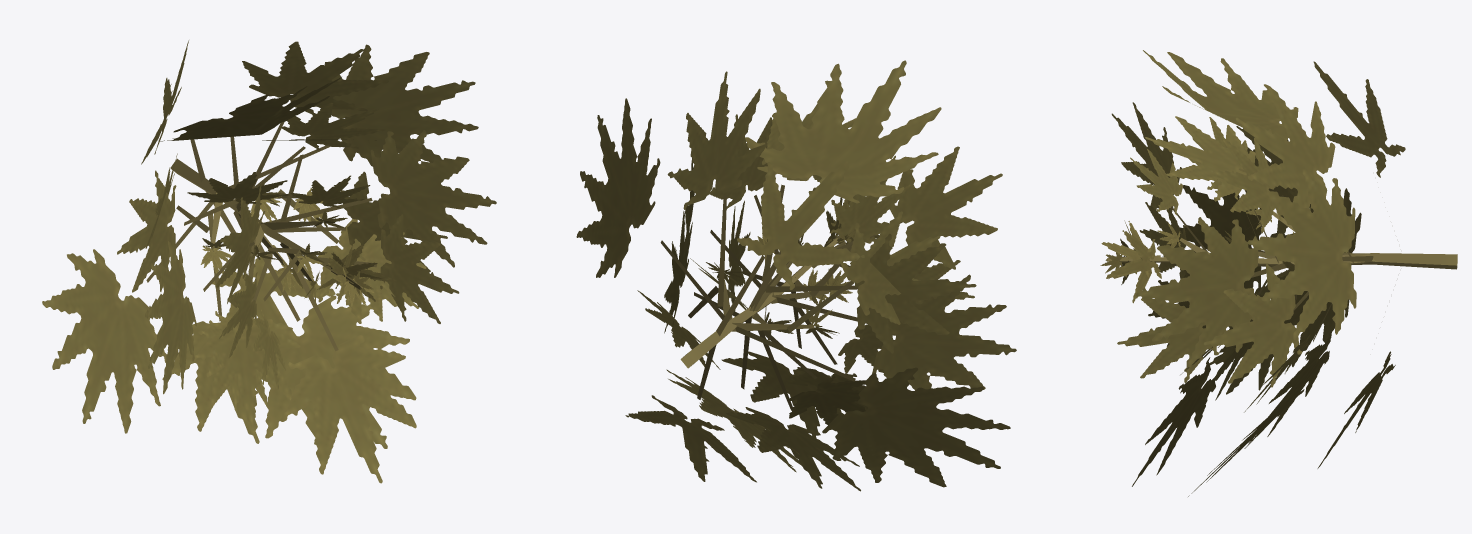
Rendered from p_haze_vegetative_c2_cards.obj.
3 views of the same model, side by side, from view 1: azimuth 30°, elevation 25°; view 2: azimuth 150°, elevation 25°; view 3: azimuth 270°, elevation 25° (orthographic). The views are drawn at different scales.
Bounding box in the file's own units: 1.41 × 1.25 × 0.891.
1 material, 1 textured.
